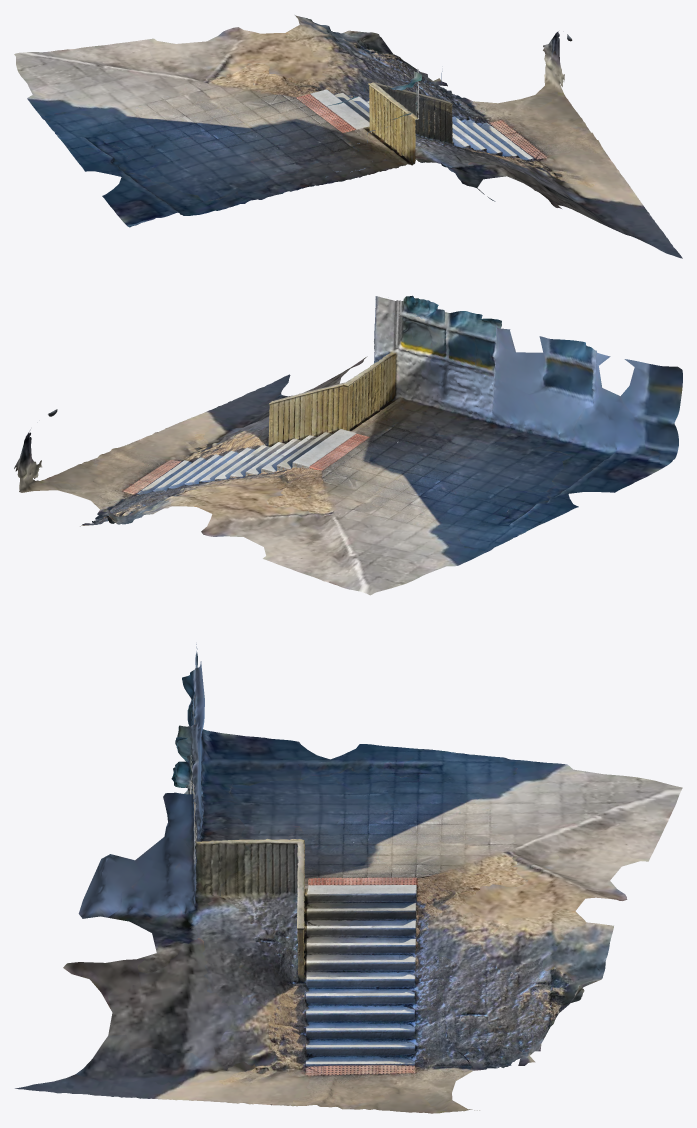
Rendered from StigiSeeing-transformed.glb.
3 renders of one model, top to bottom at view 1: azimuth 30°, elevation 25°; view 2: azimuth 150°, elevation 25°; view 3: azimuth 270°, elevation 25°, orthographic. The views are drawn at different scales.
Visible parts, largest first — view 1: Mesh_0; view 2: Mesh_0; view 3: Mesh_0.
Boxes of the visible parts, left/top/right/bottom form: Mesh_0: left=14, top=15, right=682, bottom=258; Mesh_0: left=14, top=295, right=682, bottom=595; Mesh_0: left=15, top=644, right=682, bottom=1113.
Bounding box in the file's own units: 14.21 × 4.43 × 13.2.
1 material, 1 textured.
